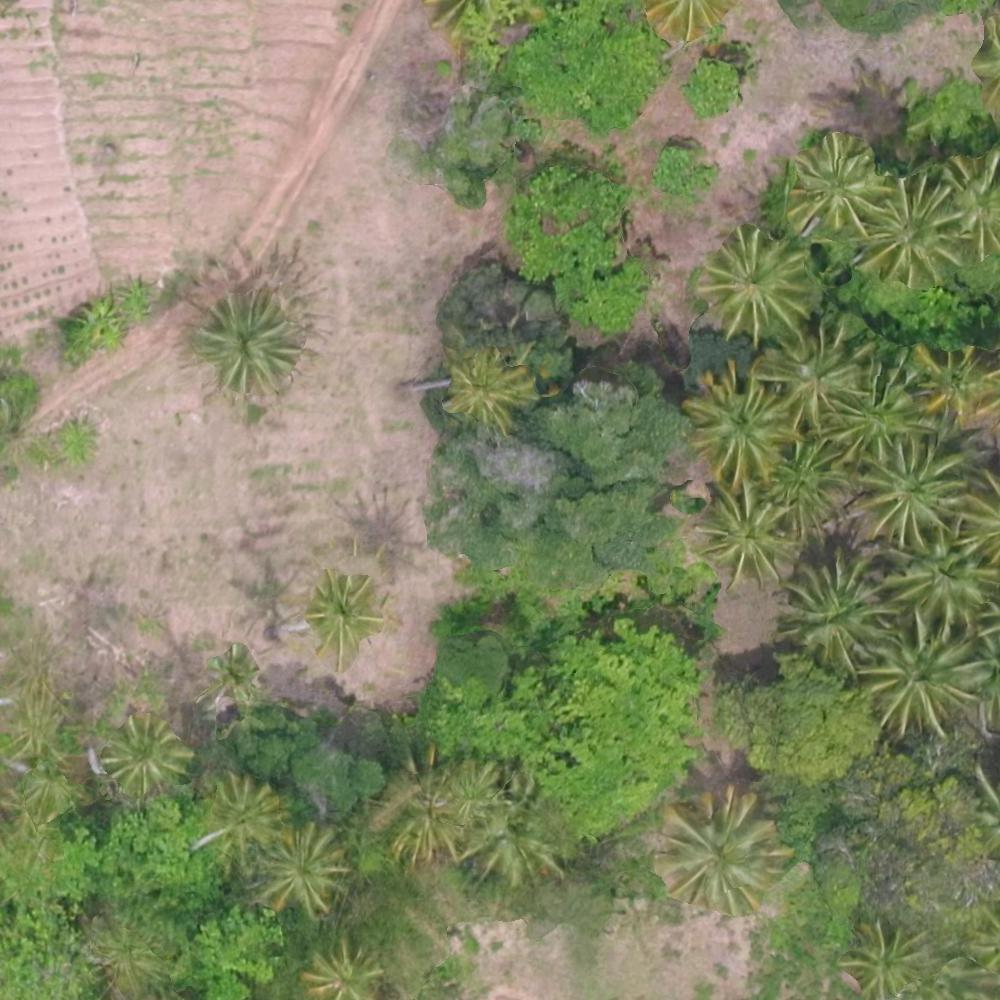Palm: (664, 793, 779, 910), (783, 552, 897, 661), (700, 227, 812, 336), (686, 372, 796, 480), (856, 436, 966, 544), (868, 622, 981, 725), (693, 480, 799, 585), (196, 295, 300, 393), (865, 180, 963, 283), (891, 530, 986, 627), (790, 141, 886, 230), (772, 436, 854, 536), (439, 345, 536, 427), (258, 823, 347, 912), (910, 336, 993, 419), (204, 774, 286, 858), (105, 713, 191, 789), (844, 918, 924, 996), (302, 577, 383, 650), (304, 942, 385, 999)
